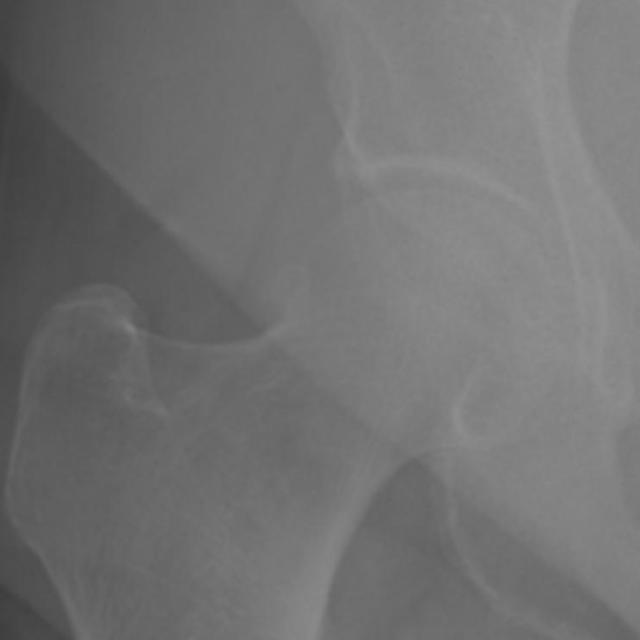Fitted_femural_head: (288, 188, 432, 288)
